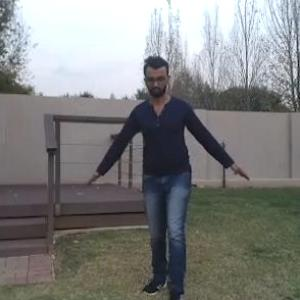land: (91, 56, 253, 297)
